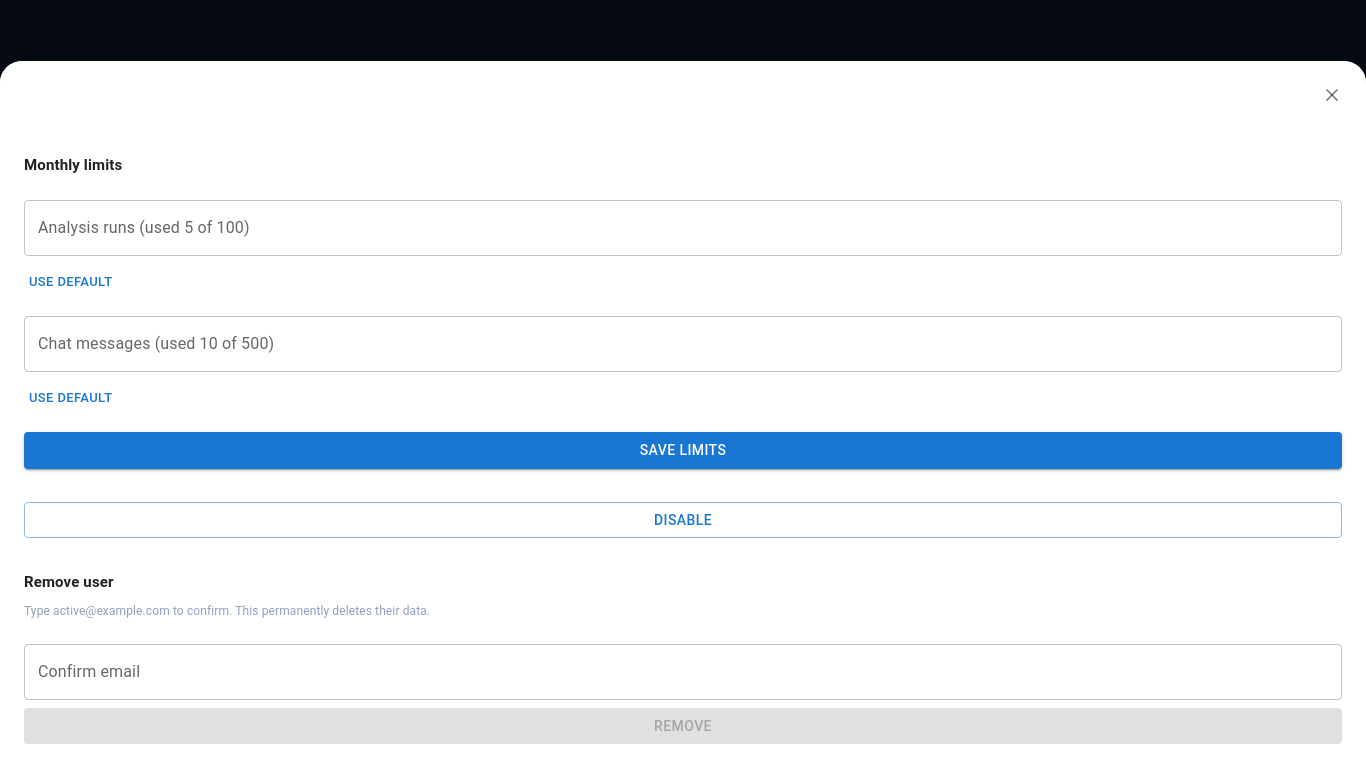
UserDetailDrawer › keeps Remove disabled until the typed email matches exactly
The image size is (1366, 768).
(page scrolled)
Expected: the button "Remove" is disabled, [24,708,1342,744]
Step 1. Type "wrong@example.com" into the field labelled "Confirm email" → (683, 672), box [24,644,1342,700]
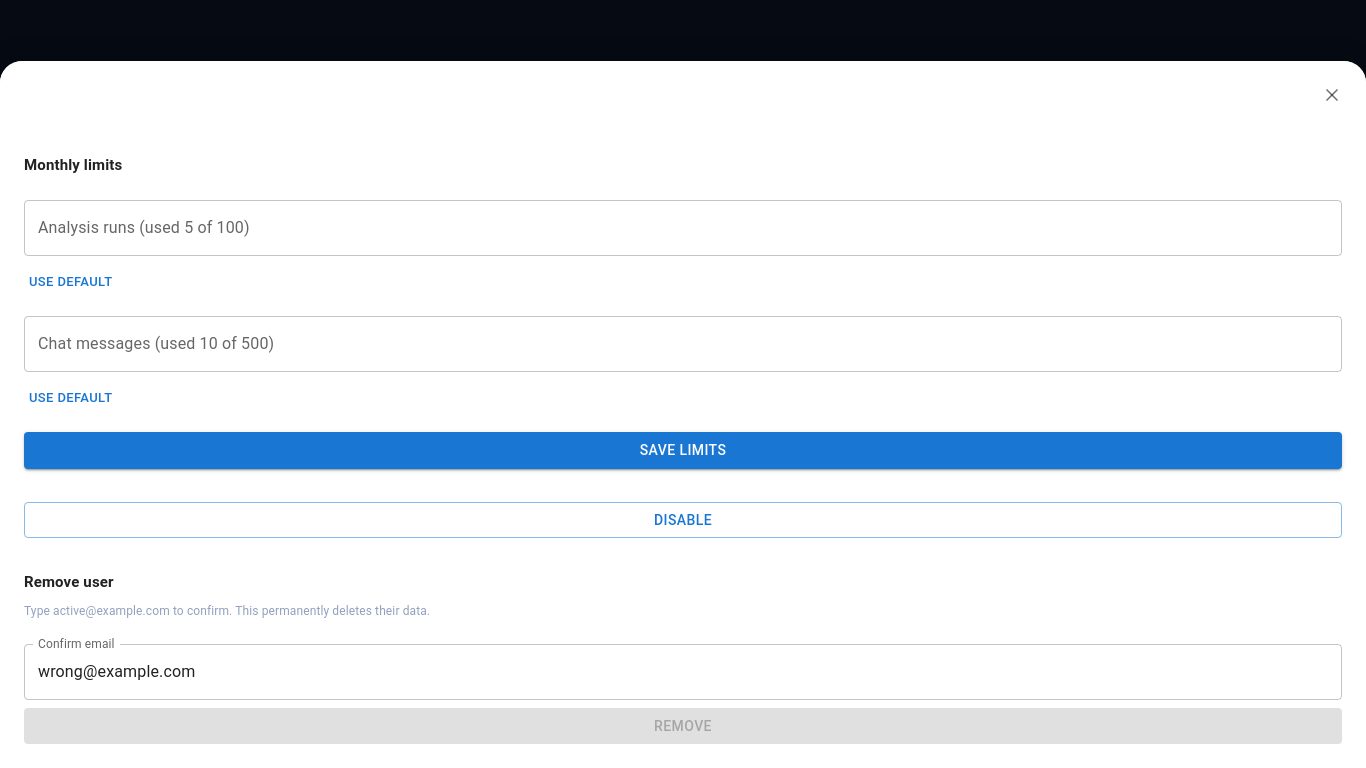
Expected: the button "Remove" is disabled, [24,708,1342,744]
Step 2. Replace the text in the field labelled "Confirm email" with "active@example.com" → (683, 672), box [24,644,1342,700]
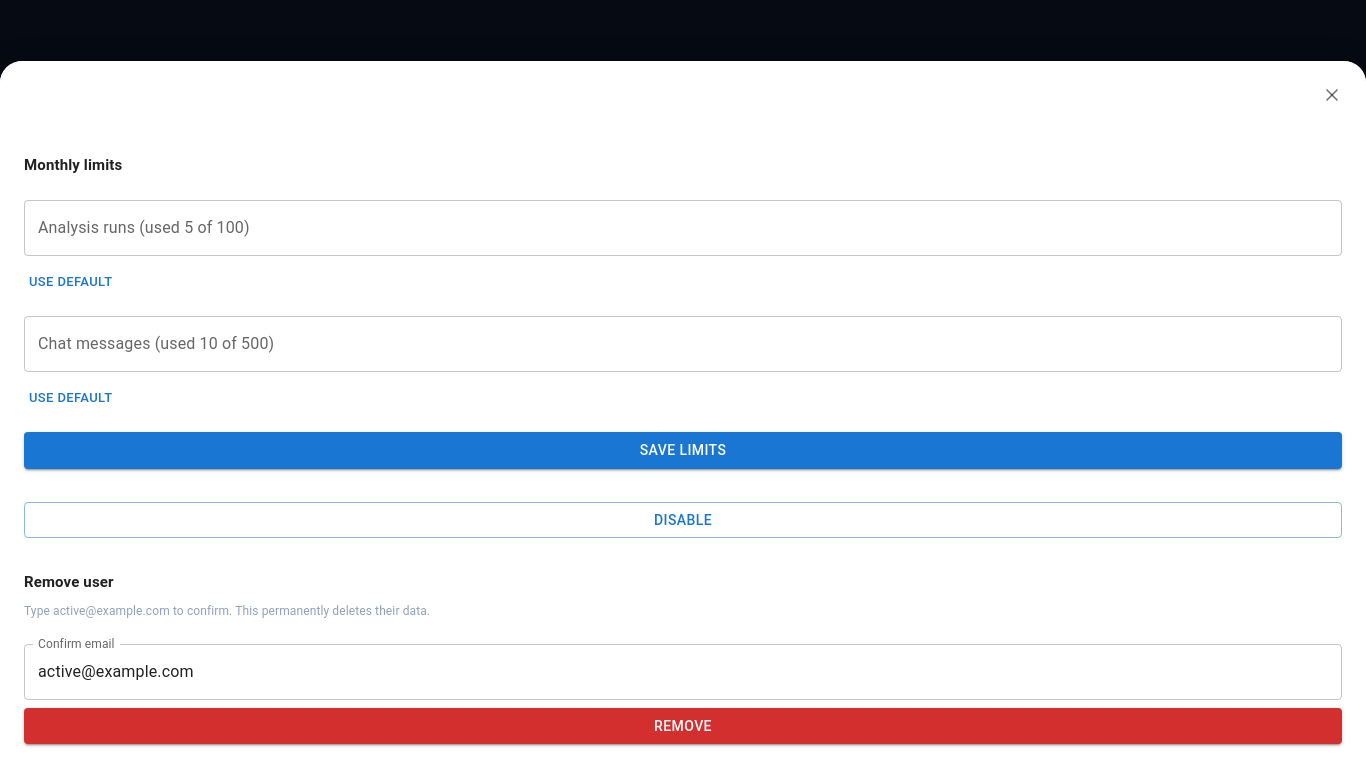
Now the button "Remove" is enabled, box [24,708,1342,744]
